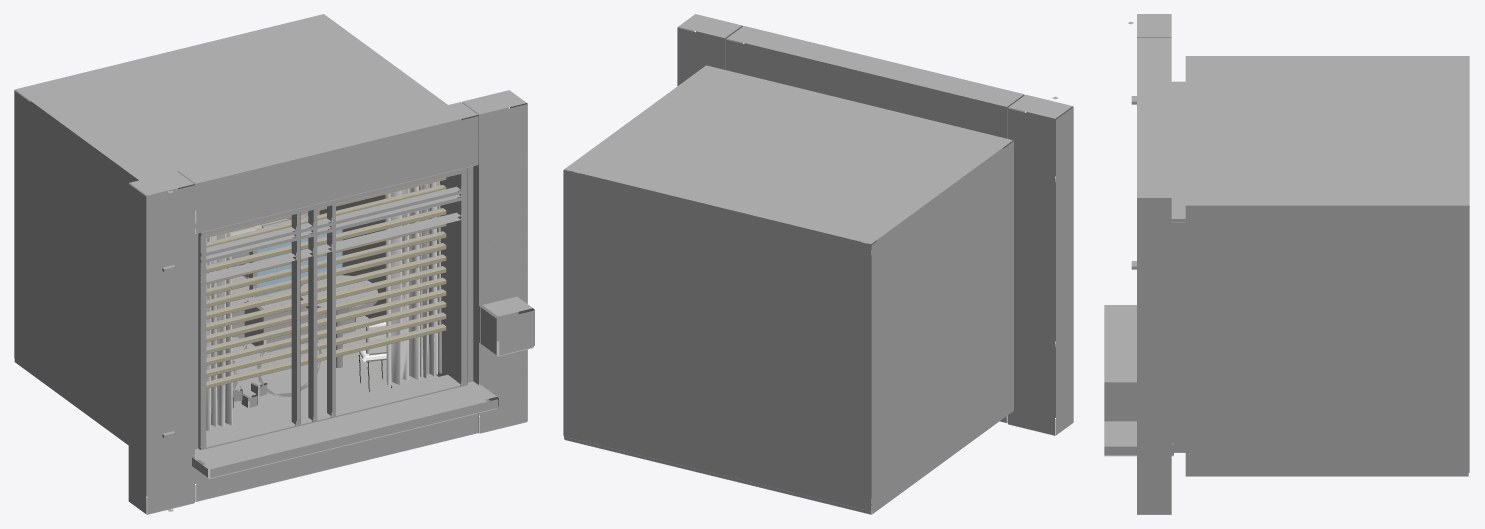
File: neighbors.glb
3 views of the same model, side by side, from view 1: azimuth 30°, elevation 25°; view 2: azimuth 150°, elevation 25°; view 3: azimuth 270°, elevation 25° (orthographic).
Parts seen in each view (by area): view 1: room_035_static, room_028_blind_panel.001, room_028_static, room_036_static, room_036_curtain_right.001, room_035_curtain_left.001, room_035_curtain_right.001, room_035_screen.002; view 2: room_035_static; view 3: room_035_static, room_028_static.
Part boxes in pixels (x1,y1,x2,y2): room_035_static: (14,14,527,514); room_028_blind_panel.001: (206,177,446,388); room_028_static: (169,191,534,511); room_036_static: (167,186,465,511); room_036_curtain_right.001: (385,182,437,386); room_035_curtain_left.001: (206,232,232,431); room_035_curtain_right.001: (419,181,441,378); room_035_screen.002: (257,230,341,295); room_035_static: (563,14,1073,514); room_035_static: (1104,14,1469,514); room_028_static: (1104,22,1136,421).
Size of the model in its own units: 4.3 by 3.45 by 3.62.
